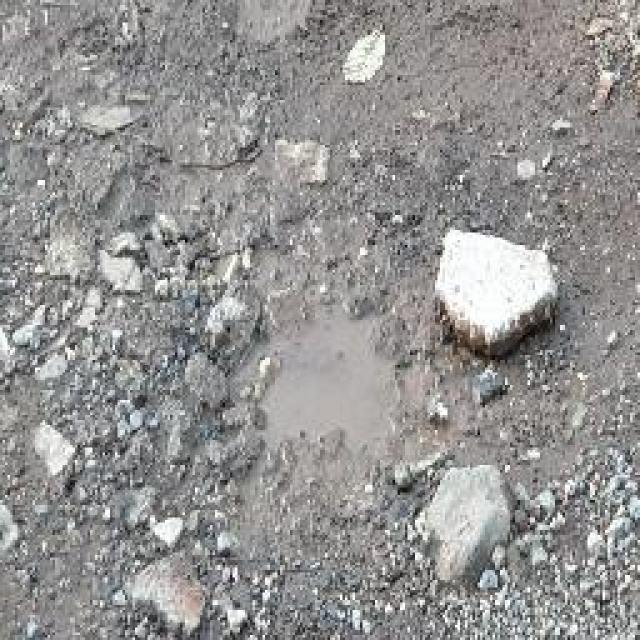waterlogging: (229, 280, 428, 468)
